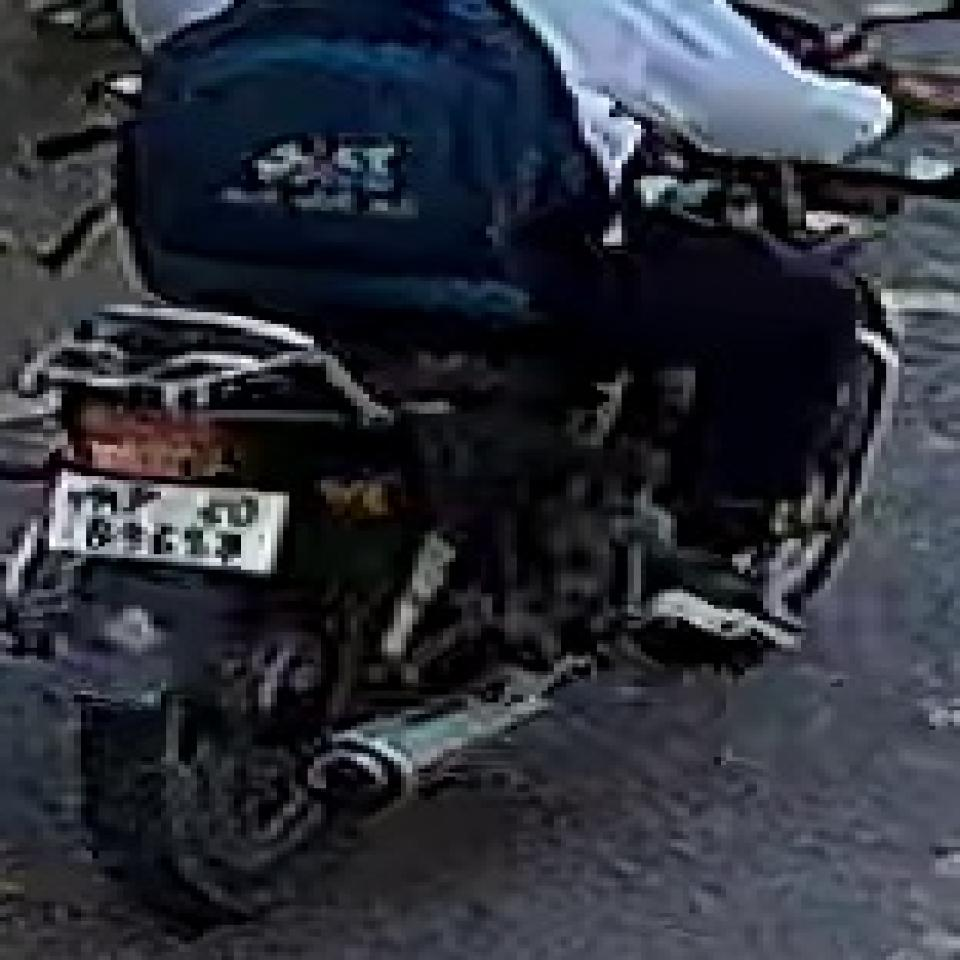tail_light: (75, 403, 231, 477)
